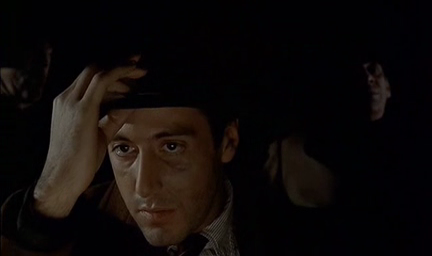cu: (1, 1, 432, 256)
face: (108, 106, 212, 246), (352, 56, 386, 111)
person: (1, 25, 310, 256)
